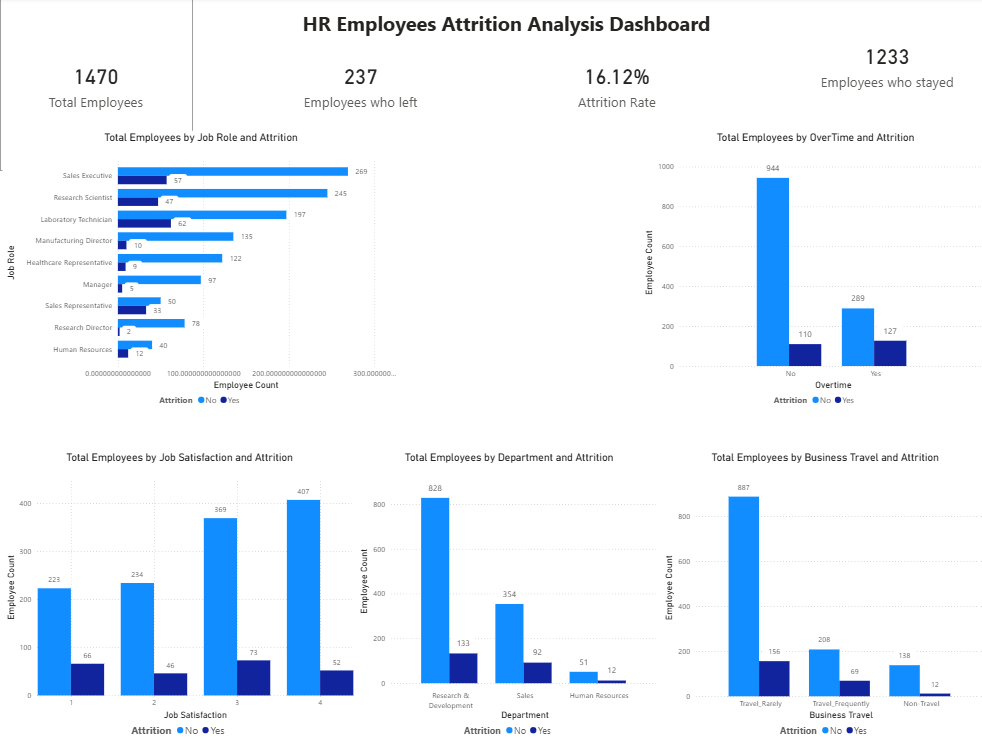

This screenshot's page, from the dashboard's own definition file:
{"tool":"powerbi","page":{"name":"Page 1","canvas":[1600,1200],"ordinal":0},"visuals":[{"type":"card","fields":{"Values":["HR_Attrition_Cleaned.Total Employees"]},"box":[8.9,0,309.2,280.3],"z":0},{"type":"card","fields":{"Values":["HR_Attrition_Cleaned.Employees who left"]},"box":[448.9,0,280,280],"z":1000},{"type":"card","fields":{"Values":["HR_Attrition_Cleaned.Employees who stayed"]},"box":[1270.3,0,329.3,215.8],"z":2000},{"type":"card","fields":{"Values":["HR_Attrition_Cleaned.Attrition Rate"]},"box":[859.6,0,280,280],"z":3000},{"type":"clusteredColumnChart","fields":{"Category":["HR_Attrition_Cleaned.Department"],"Series":["HR_Attrition_Cleaned.Attrition"],"Y":["HR_Attrition_Cleaned.Total Employees"]},"box":[580.7,729.7,491.7,469.4],"z":4000},{"type":"clusteredBarChart","title":"Total Employees by Job Role and Attrition","fields":{"Category":["HR_Attrition_Cleaned.JobRole"],"Series":["HR_Attrition_Cleaned.Attrition"],"Y":["HR_Attrition_Cleaned.Total Employees"]},"box":[11.1,215.8,638.5,451.6],"z":5000},{"type":"clusteredColumnChart","fields":{"Category":["HR_Attrition_Cleaned.OverTime"],"Series":["HR_Attrition_Cleaned.Attrition"],"Y":["HR_Attrition_Cleaned.Total Employees"]},"box":[1039,215.8,560.6,451.6],"z":6000},{"type":"clusteredColumnChart","title":"Total Employees by Business Travel and Attrition","fields":{"Category":["HR_Attrition_Cleaned.BusinessTravel"],"Series":["HR_Attrition_Cleaned.Attrition"],"Y":["HR_Attrition_Cleaned.Total Employees"]},"box":[1072.3,729.7,527.3,469.4],"z":7000},{"type":"clusteredColumnChart","title":"Total Employees by Job Satisfaction and Attrition","fields":{"Category":["HR_Attrition_Cleaned.JobSatisfaction"],"Series":["HR_Attrition_Cleaned.Attrition"],"Y":["HR_Attrition_Cleaned.Total Employees"]},"box":[11.1,729.7,569.5,469.4],"z":7001},{"type":"textbox","box":[473.9,15.6,696.3,64.5],"z":7002}]}

Visuals, with their boxes in screenshot pixels (x1, y1, x2, y2), scaled from the page's 1600x1200 canvas onto the 982x740 screenshot:
card - HR_Attrition_Cleaned.Total Employees: region(5, 0, 195, 173)
card - HR_Attrition_Cleaned.Employees who left: region(276, 0, 447, 173)
card - HR_Attrition_Cleaned.Employees who stayed: region(780, 0, 981, 133)
card - HR_Attrition_Cleaned.Attrition Rate: region(528, 0, 699, 173)
clusteredColumnChart - HR_Attrition_Cleaned.Department x HR_Attrition_Cleaned.Attrition: region(356, 450, 658, 739)
"Total Employees by Job Role and Attrition" clusteredBarChart: region(7, 133, 399, 412)
clusteredColumnChart - HR_Attrition_Cleaned.OverTime x HR_Attrition_Cleaned.Attrition: region(638, 133, 981, 412)
"Total Employees by Business Travel and Attrition" clusteredColumnChart: region(658, 450, 981, 739)
"Total Employees by Job Satisfaction and Attrition" clusteredColumnChart: region(7, 450, 356, 739)
textbox: region(291, 10, 718, 49)
